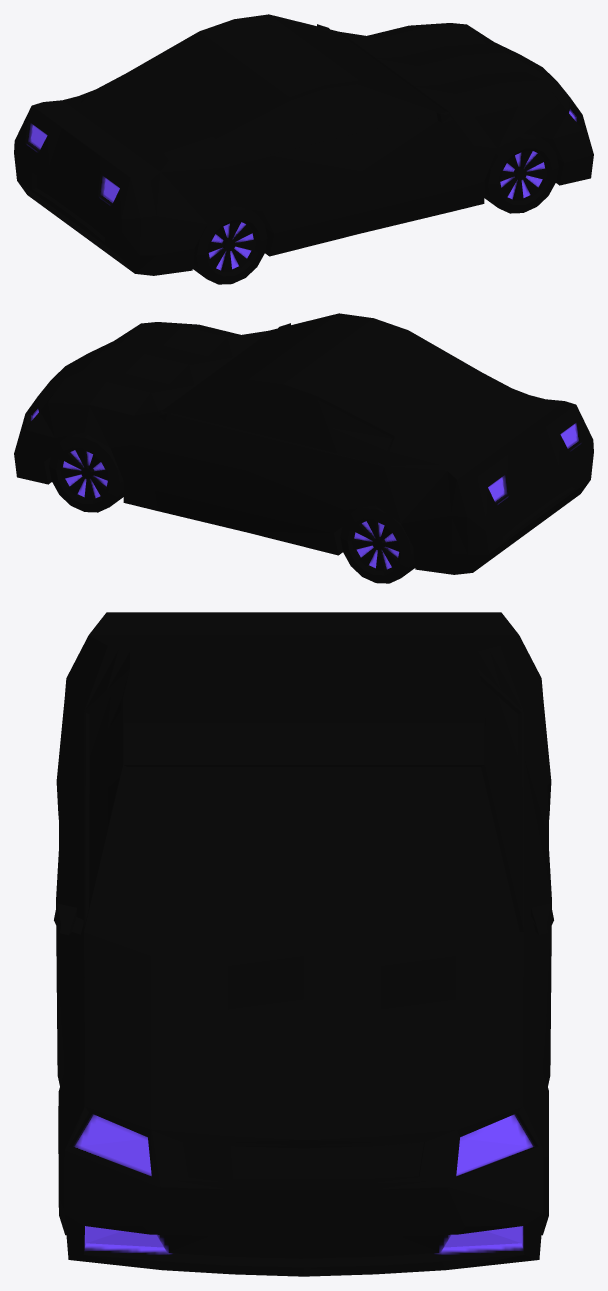
Rendered from car.glb.
The picture shows the model from 3 angles, top to bottom: view 1: azimuth 30°, elevation 25°; view 2: azimuth 150°, elevation 25°; view 3: azimuth 270°, elevation 25°; orthographic projection. The views are drawn at different scales.
Visible parts, largest first — view 1: CarBody, WheelRF, WheelRB; view 2: CarBody, WheelLF, WheelLB; view 3: CarBody, WheelRF, WheelLF.
Part boxes in pixels (x1,y1,x2,y2): CarBody: (14, 14, 593, 275); WheelRF: (484, 133, 558, 213); WheelRB: (192, 206, 267, 284); CarBody: (14, 313, 593, 574); WheelLF: (49, 432, 123, 512); WheelLB: (340, 505, 415, 583); CarBody: (54, 612, 553, 1276); WheelRF: (58, 1073, 66, 1235); WheelLF: (541, 1073, 548, 1235).
Size of the model in its own units: 2.82 by 0.906 by 1.27.
Materials: 1 (1 with a texture image).
